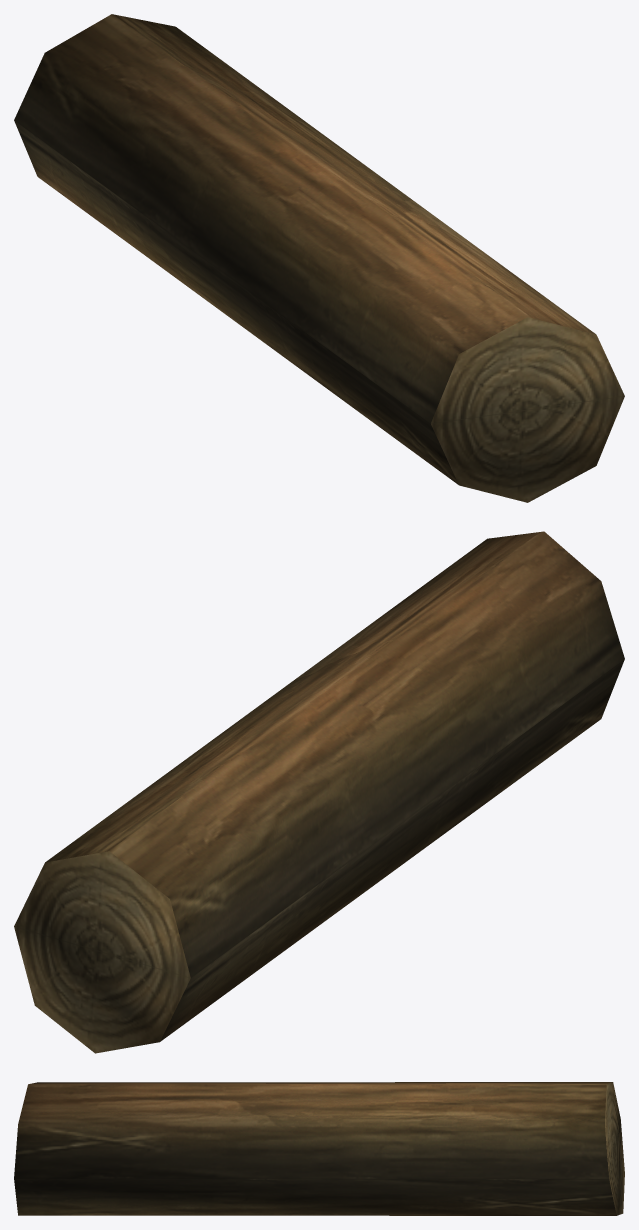
File: CZ_Mutou_1.FBX
3 renders of one model, top to bottom at view 1: azimuth 30°, elevation 25°; view 2: azimuth 150°, elevation 25°; view 3: azimuth 270°, elevation 25°, orthographic. The views are drawn at different scales.
Visible parts, largest first — view 1: Object01; view 2: Object01; view 3: Object01.
Part boxes in pixels (bbox=[...]): Object01: bbox=[14, 14, 624, 502]; Object01: bbox=[14, 531, 624, 1053]; Object01: bbox=[14, 1082, 624, 1215].
Bounding box in the file's own units: 29.66 × 29.76 × 127.
